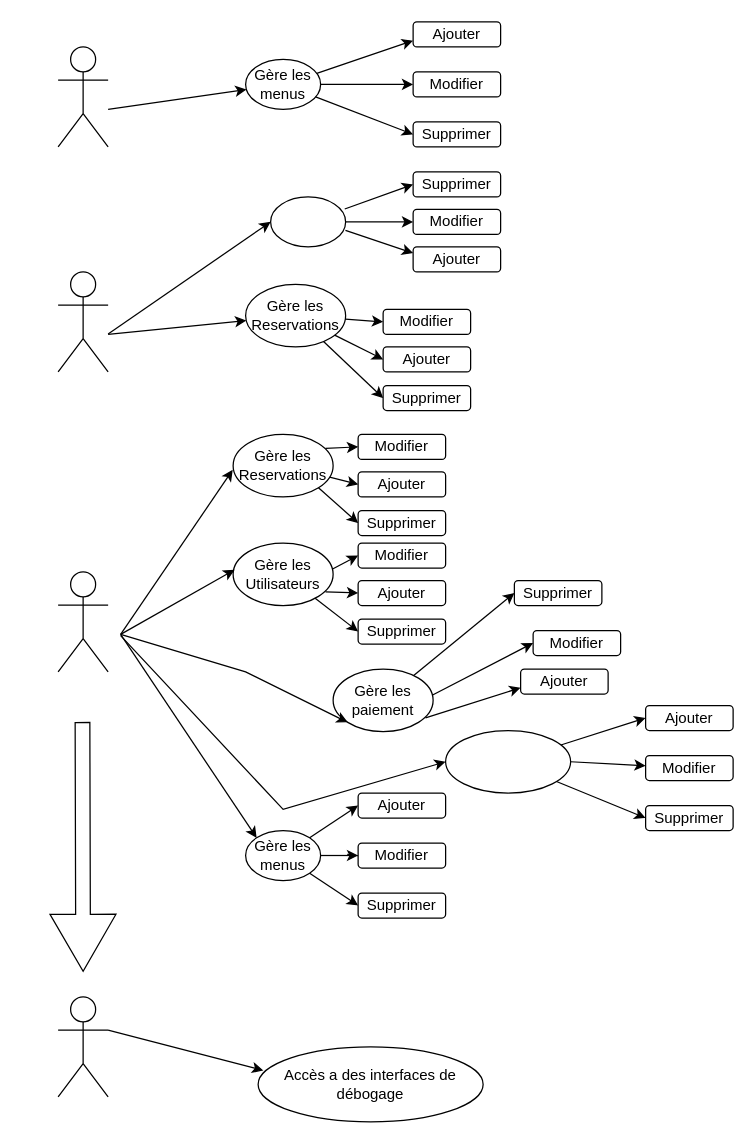
Some shapes in this 755 by 1148 pixel diagram are drawn without their labels. The box of each missing label's shape, as (x1, y1, x2, y2) in pixels:
Administrateur: (57, 996, 108, 1097)
Chef de cuisine: (57, 46, 108, 147)
Gère les Eleves: (269, 196, 346, 247)
Gère les Modes de paiements: (444, 729, 571, 793)
Proviseur: (57, 571, 108, 672)
Secretaire: (57, 271, 108, 372)
